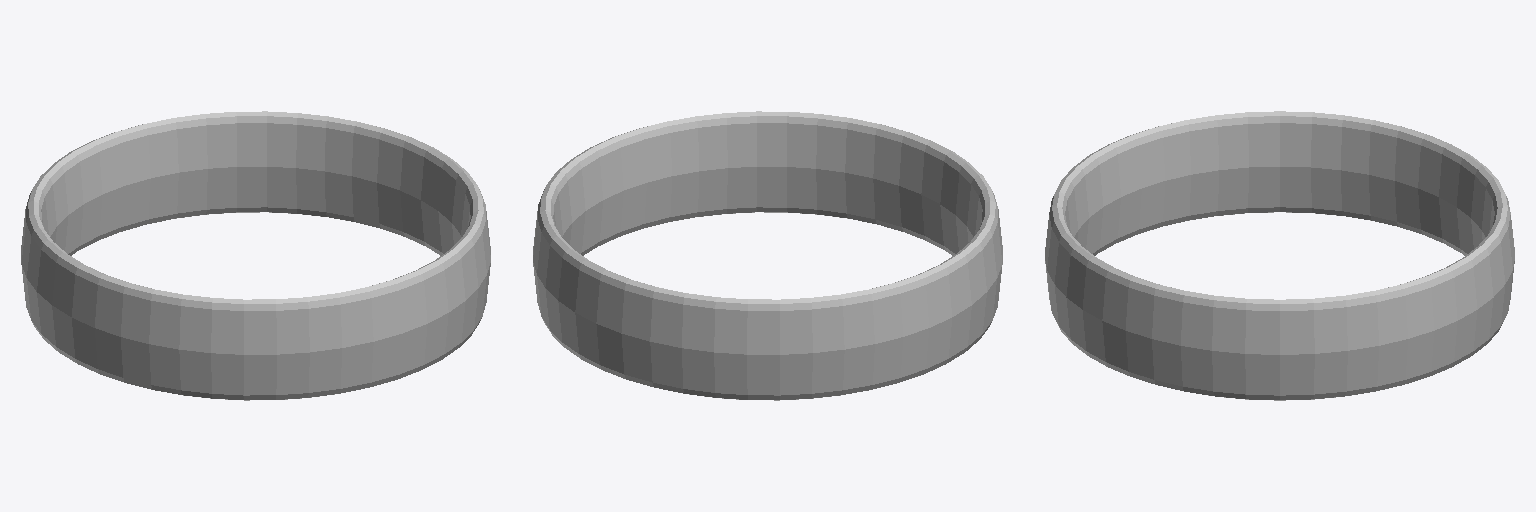
3 views of the same model, side by side, from view 1: azimuth 30°, elevation 25°; view 2: azimuth 150°, elevation 25°; view 3: azimuth 270°, elevation 25° (orthographic).
Visible parts, largest first — view 1: Ring_Render; view 2: Ring_Render; view 3: Ring_Render.
Part boxes in pixels (x1,y1,x2,y2): Ring_Render: (21,111,490,400); Ring_Render: (533,111,1002,400); Ring_Render: (1045,111,1514,400).
Bounding box in the file's own units: 25.36 × 6 × 25.36.